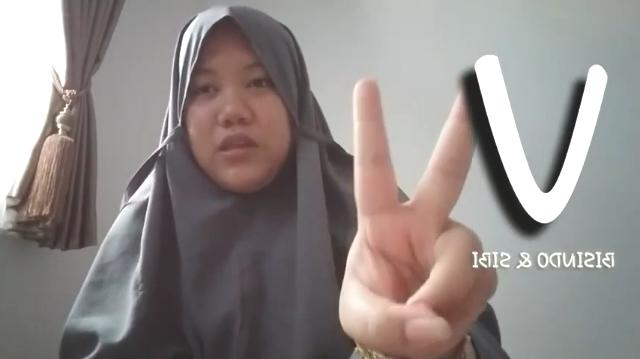V: (312, 78, 499, 359)
